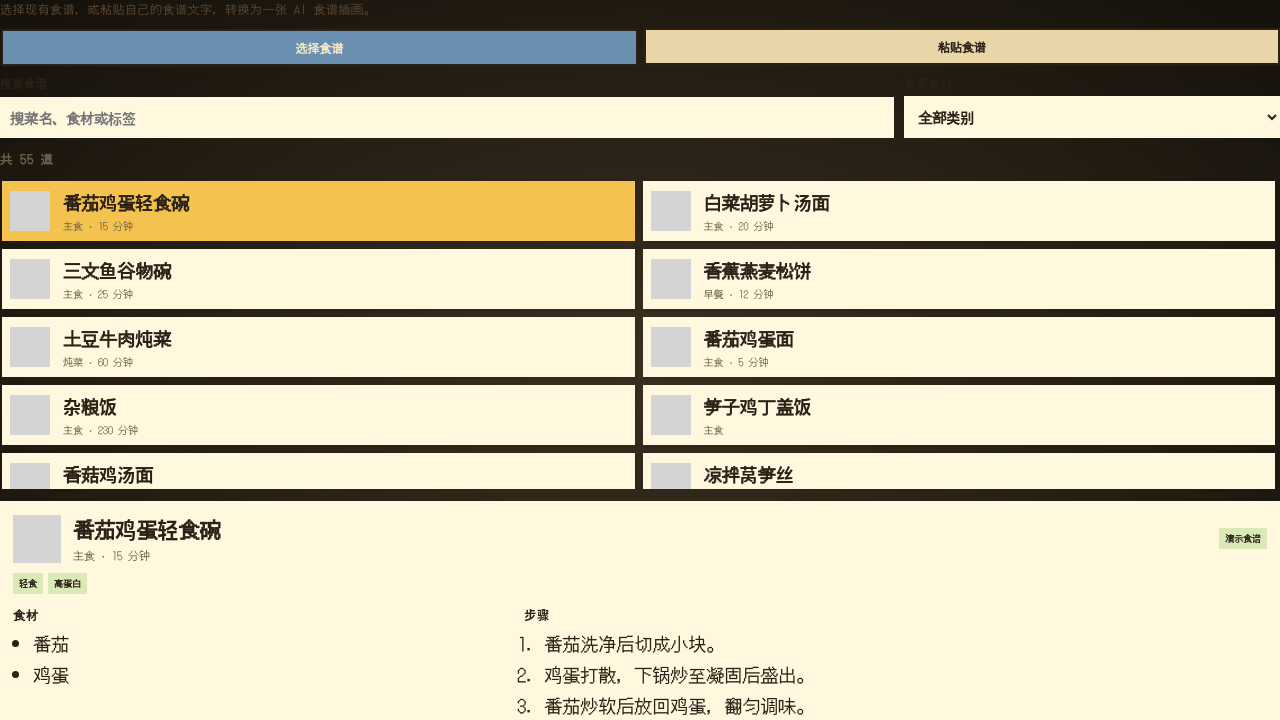
Test case: RecipeIllustrationStudioModal › shows an inline error and never sends invalid pasted text
Click the button "粘贴食谱".
click(962, 46)  # box x1=644 y1=28 x2=1279 y2=65
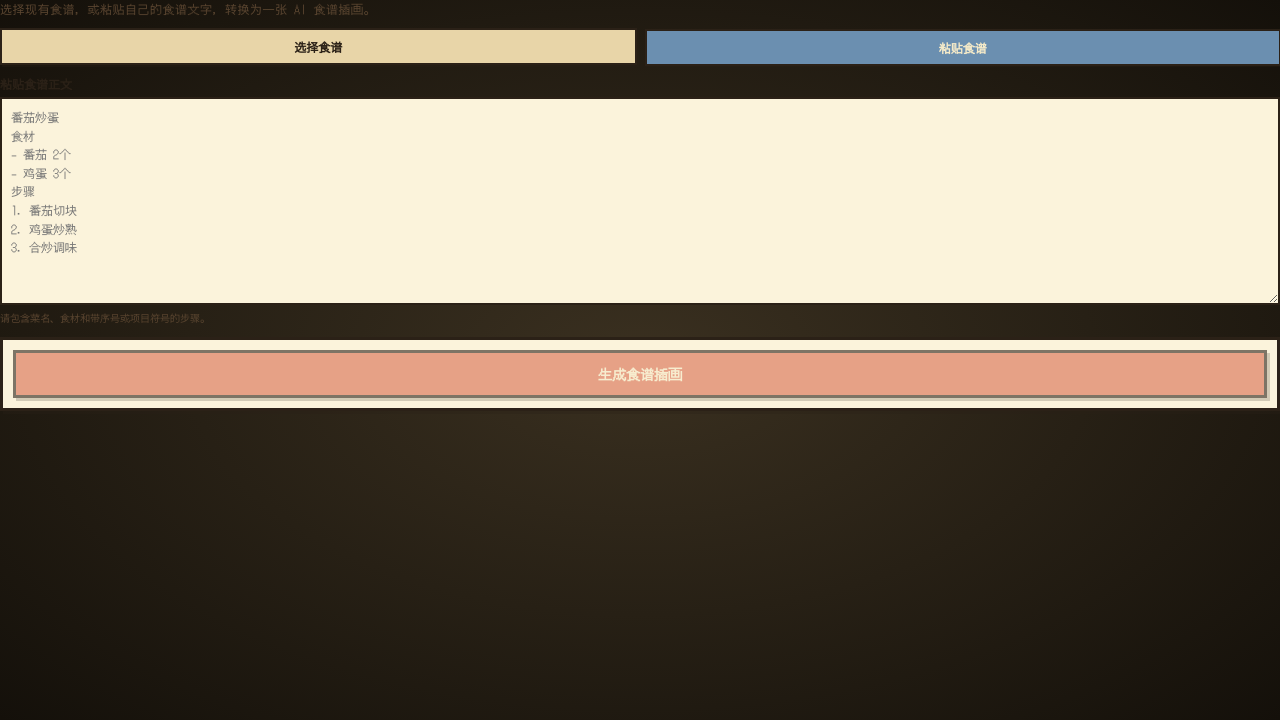
Type "只有一道菜的简单描述" into the text box labelled "粘贴食谱正文".
click(640, 201); type("只有一道菜的简单描述")  # box x1=0 y1=97 x2=1279 y2=305
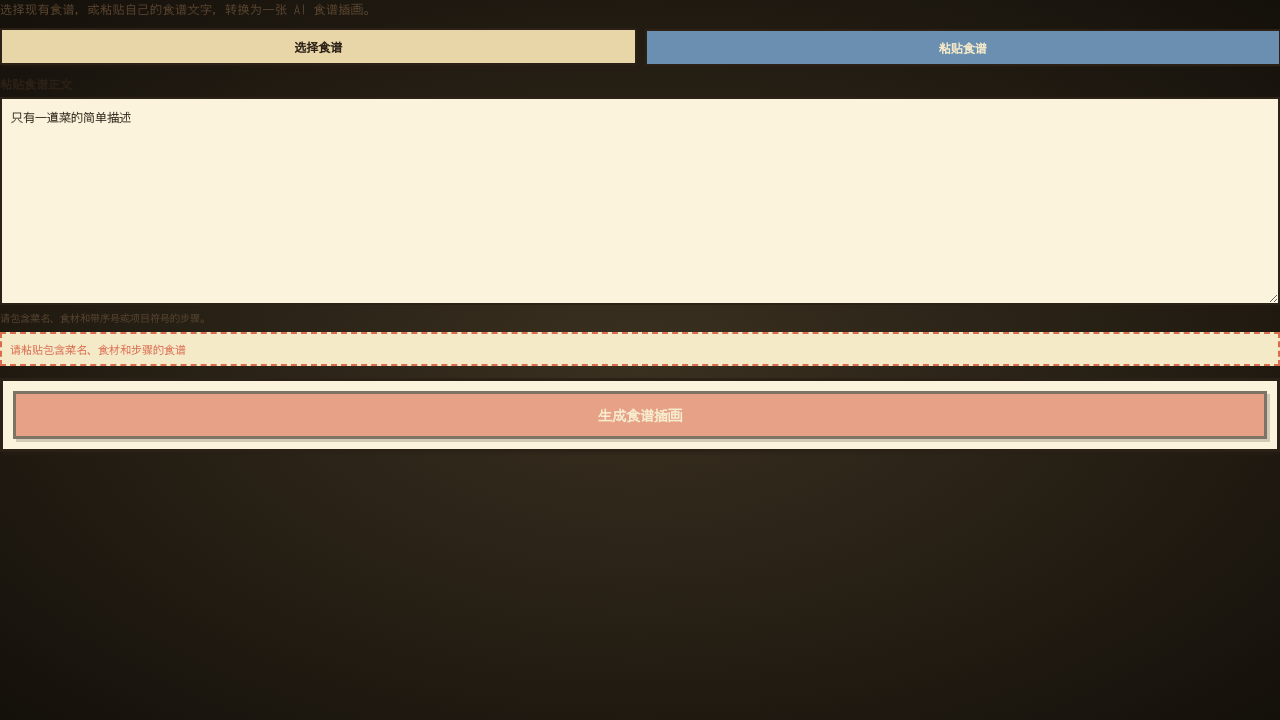
expect the button "生成食谱插画" is disabled: met, box x1=13 y1=391 x2=1267 y2=439
expect the message reads "请粘贴包含菜名、食材和步骤的食谱": met, box x1=10 y1=341 x2=186 y2=357
